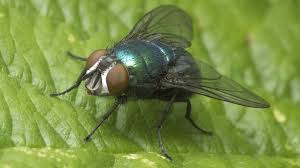green bottles flies: (46, 3, 278, 152)
